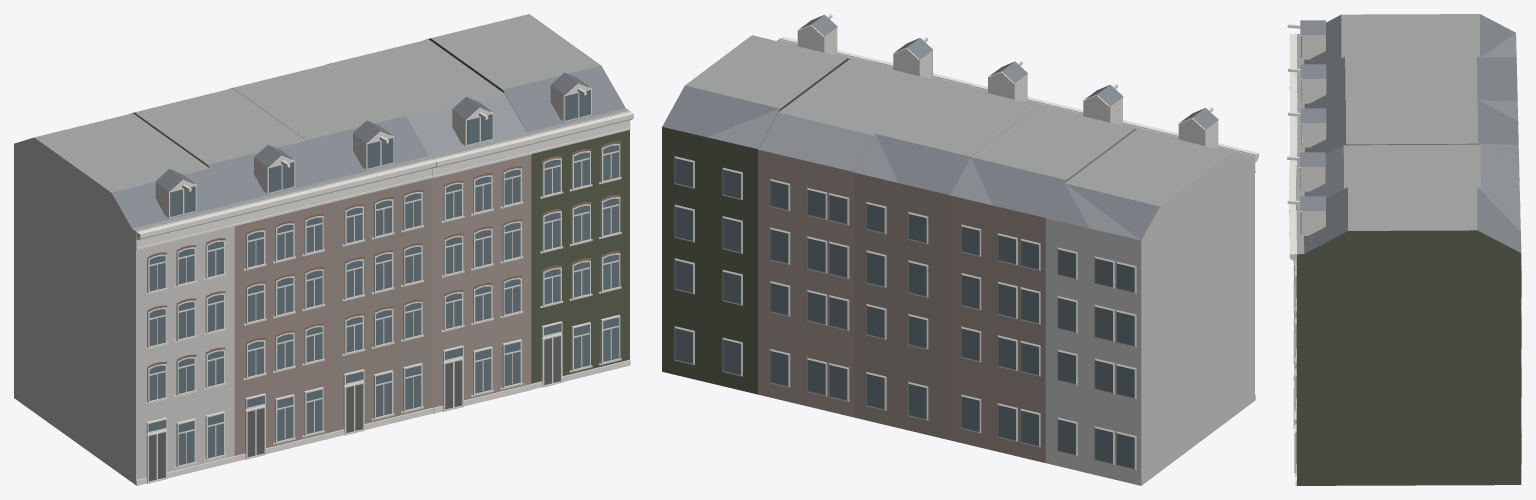
Rendered from chunk-face-flinck-265-287-r1.glb.
3 renders of one model, left to right at view 1: azimuth 30°, elevation 25°; view 2: azimuth 150°, elevation 25°; view 3: azimuth 270°, elevation 25°, orthographic. The views are drawn at different scales.
Visible parts, largest first — view 1: face-flinck-265-287-r1; view 2: face-flinck-265-287-r1; view 3: face-flinck-265-287-r1.
Part boxes in pixels (left/top/right/bottom): face-flinck-265-287-r1: left=14, top=14, right=633, bottom=485; face-flinck-265-287-r1: left=662, top=14, right=1258, bottom=485; face-flinck-265-287-r1: left=1287, top=14, right=1521, bottom=485.
Bounding box in the file's own units: 28.7 × 16.2 × 12.89.
